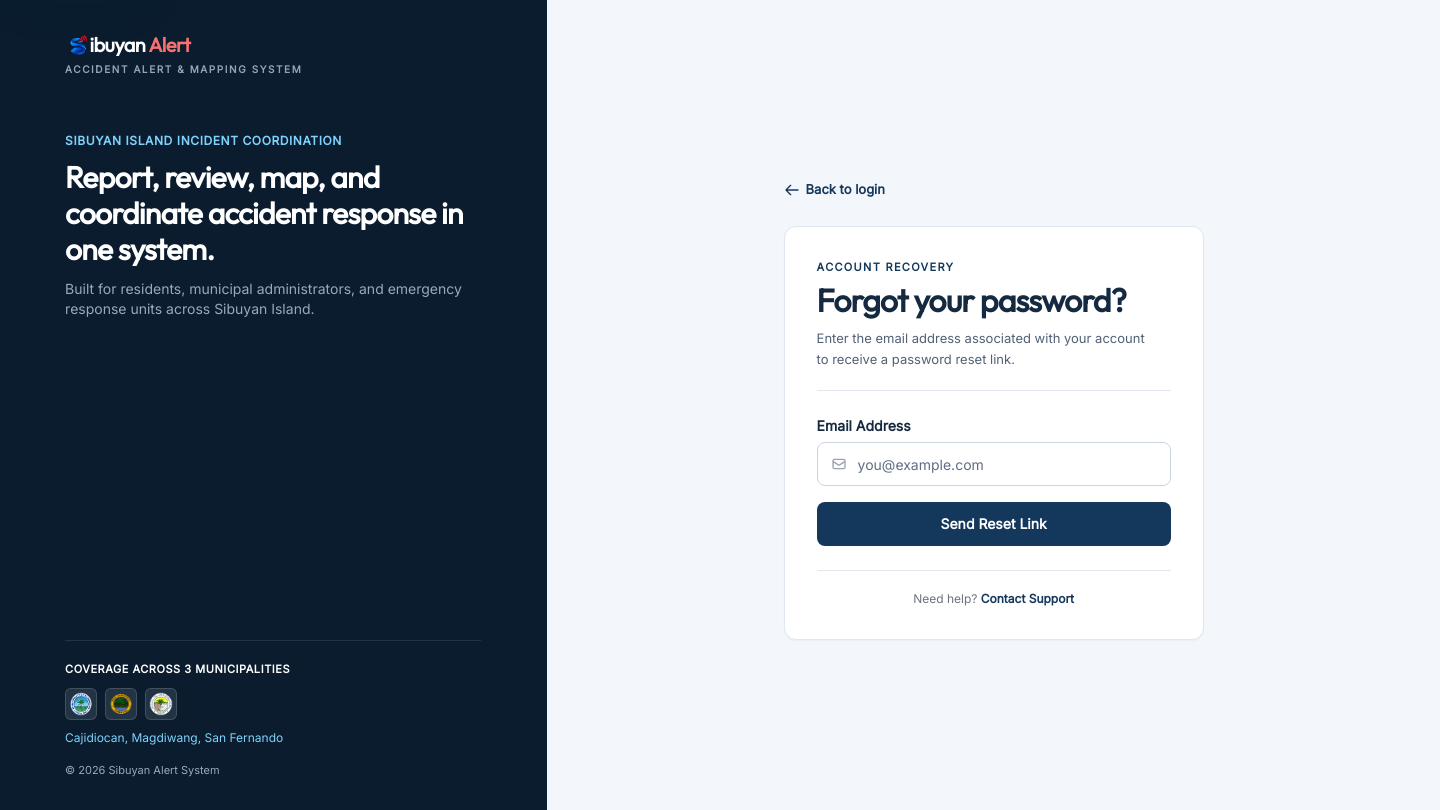
Test case: ForgotPasswordPage auth consistency and behavior › handles successful password reset submission
Step 1. Type "resident@example.com" into the field labelled "Email Address" → (994, 464), box [817, 442, 1171, 486]
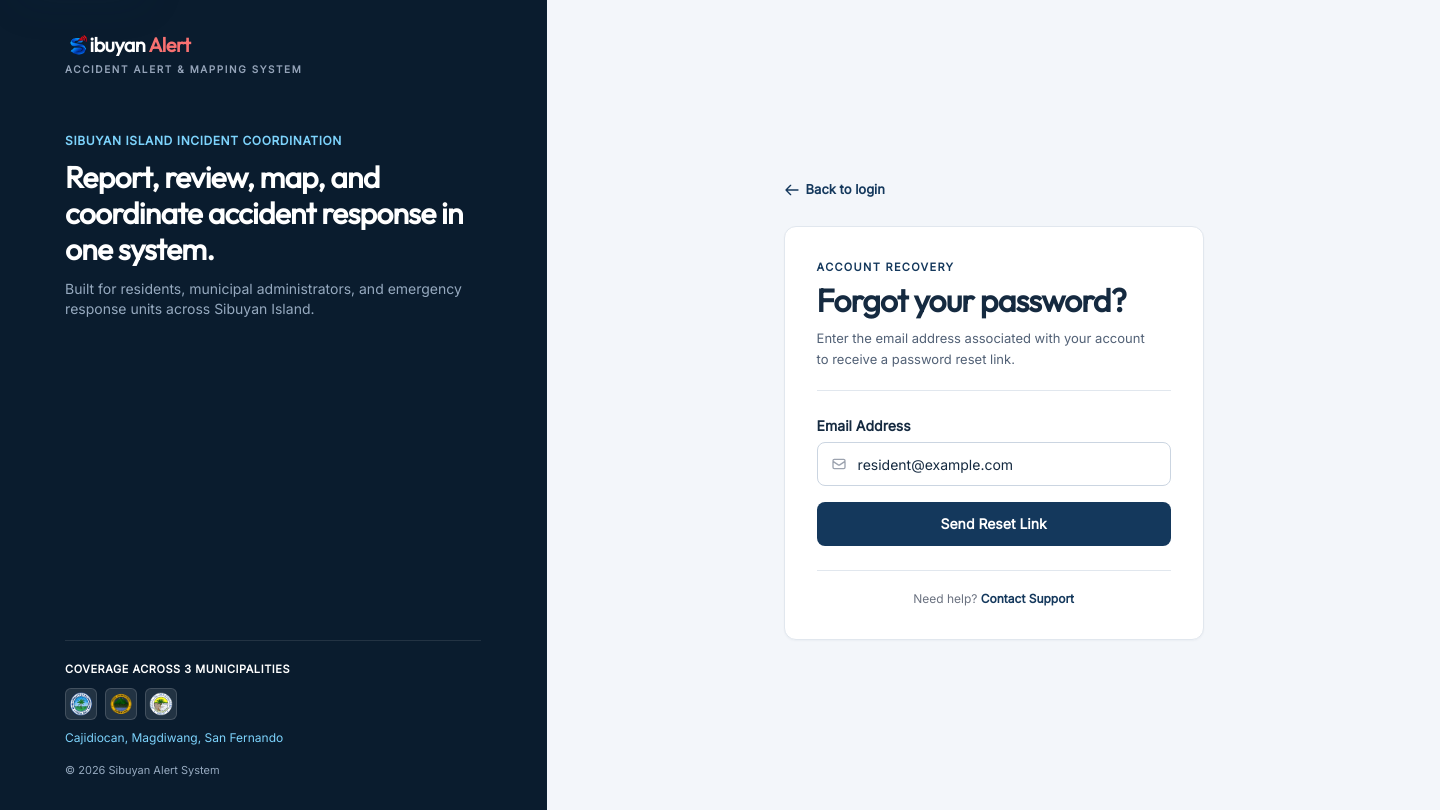
Step 2. Click the button "Send Reset Link" → (994, 524), box [817, 502, 1171, 546]
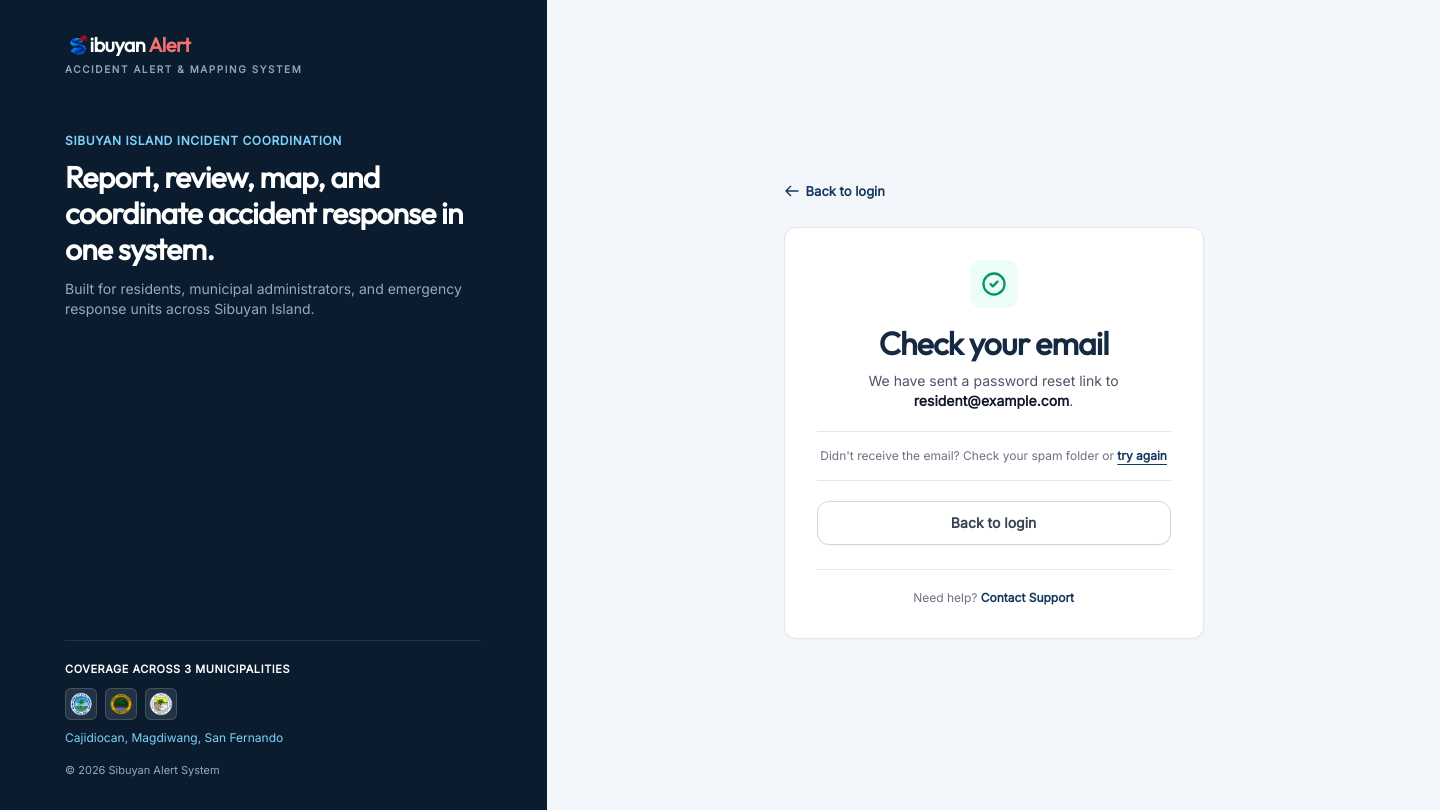
Now the heading "Check your email" is shown, box [879, 323, 1108, 363]
